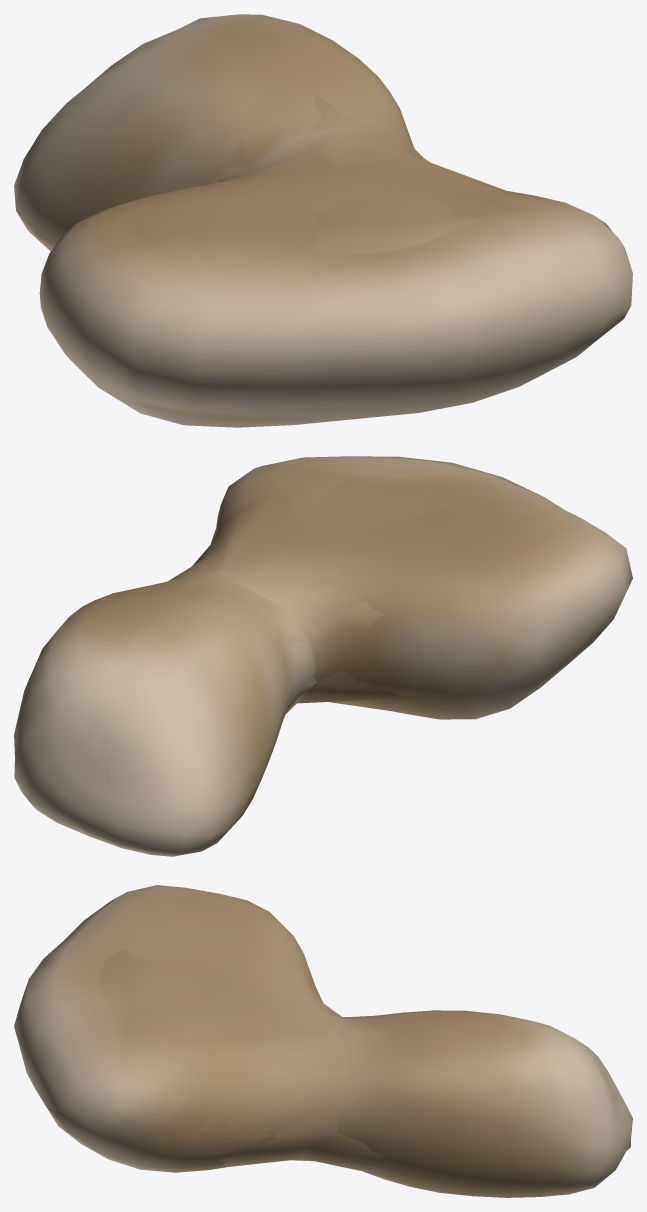
Rendered from L carpale tertium.fbx.
3 renders of one model, top to bottom at view 1: azimuth 30°, elevation 25°; view 2: azimuth 150°, elevation 25°; view 3: azimuth 270°, elevation 25°, orthographic. The views are drawn at different scales.
Visible parts, largest first — view 1: L carpale tertium, L carpale tertium low; view 2: L carpale tertium, L carpale tertium low; view 3: L carpale tertium, L carpale tertium low.
Boxes of the visible parts, x1=… form: L carpale tertium: x1=14, y1=14, x2=632, y2=427; L carpale tertium low: x1=160, y1=94, x2=504, y2=419; L carpale tertium: x1=14, y1=456, x2=632, y2=856; L carpale tertium low: x1=63, y1=474, x2=475, y2=828; L carpale tertium: x1=14, y1=885, x2=632, y2=1197; L carpale tertium low: x1=99, y1=948, x2=617, y2=1173.
Bounding box in the file's own units: 4.3 × 2.02 × 6.06.
